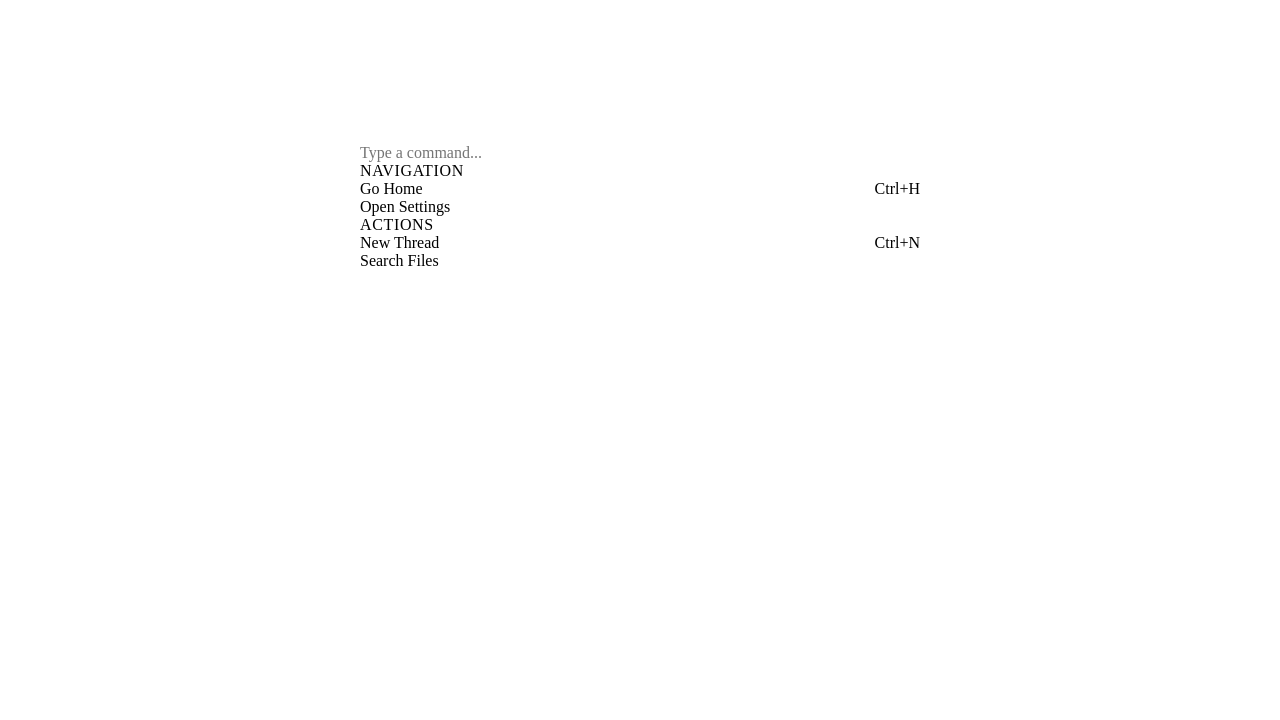
CommandPalette › empty search state when no commands match query
Type "zzzznonexistent" into the field named "Search commands".
click(640, 153); type("zzzznonexistent")  # box [360,144,920,162]
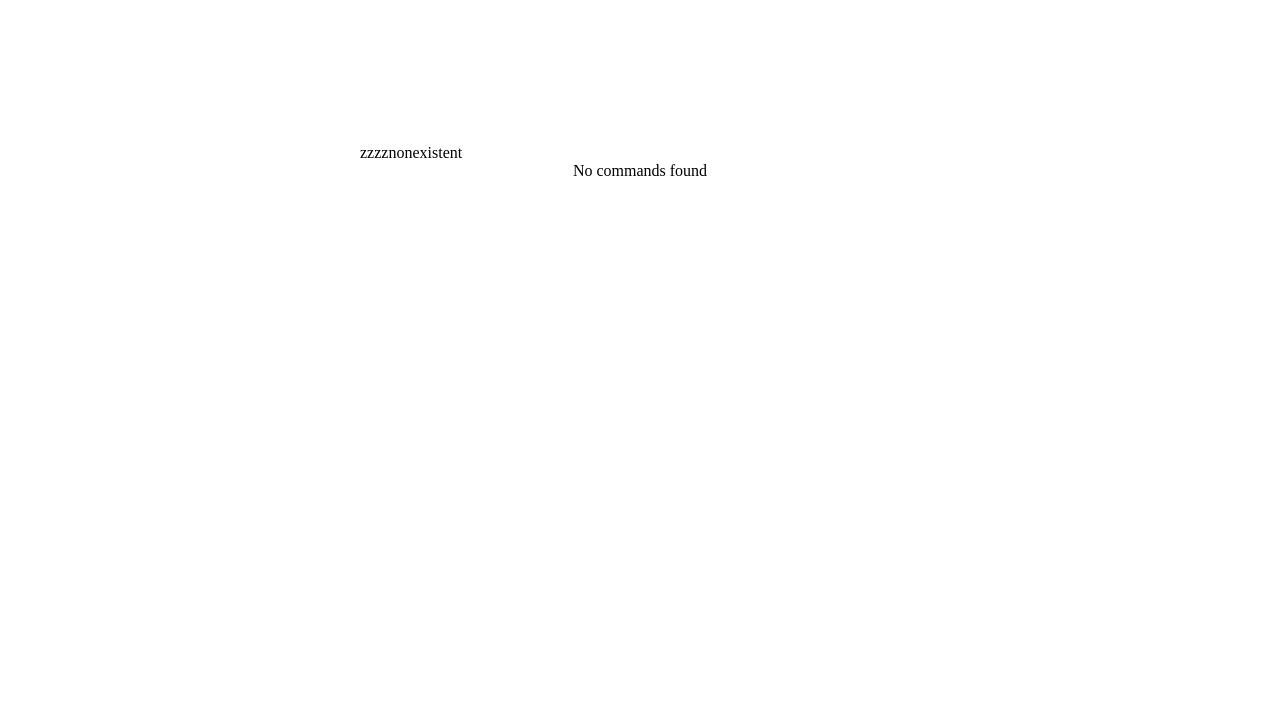
expect the text "No commands found" is shown: met, box [573,162,707,179]
